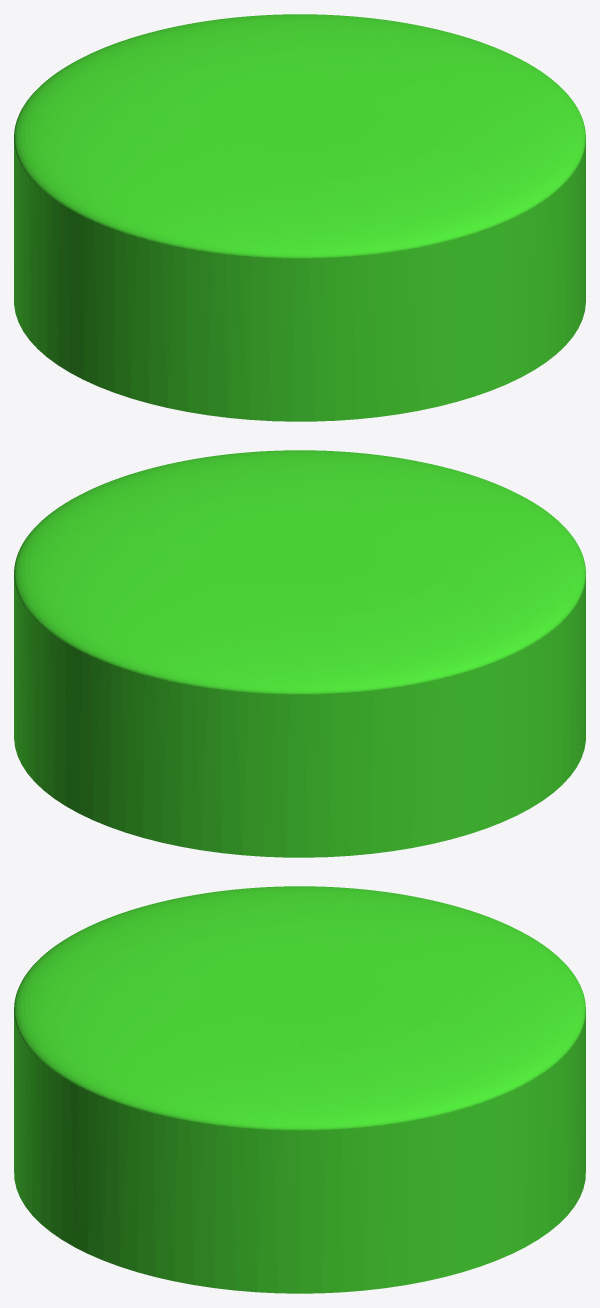
File: bouchon_produit_02.glb
3 renders of one model, top to bottom at view 1: azimuth 30°, elevation 25°; view 2: azimuth 150°, elevation 25°; view 3: azimuth 270°, elevation 25°, orthographic.
Parts seen in each view (by area): view 1: bouteille prototype V3 bouchon; view 2: bouteille prototype V3 bouchon; view 3: bouteille prototype V3 bouchon.
Part boxes in pixels (left/top/right/bottom): bouteille prototype V3 bouchon: left=14, top=14, right=585, bottom=421; bouteille prototype V3 bouchon: left=14, top=450, right=585, bottom=857; bouteille prototype V3 bouchon: left=14, top=886, right=585, bottom=1293.
Size of the model in its own units: 69.58 by 24.85 by 69.58.
